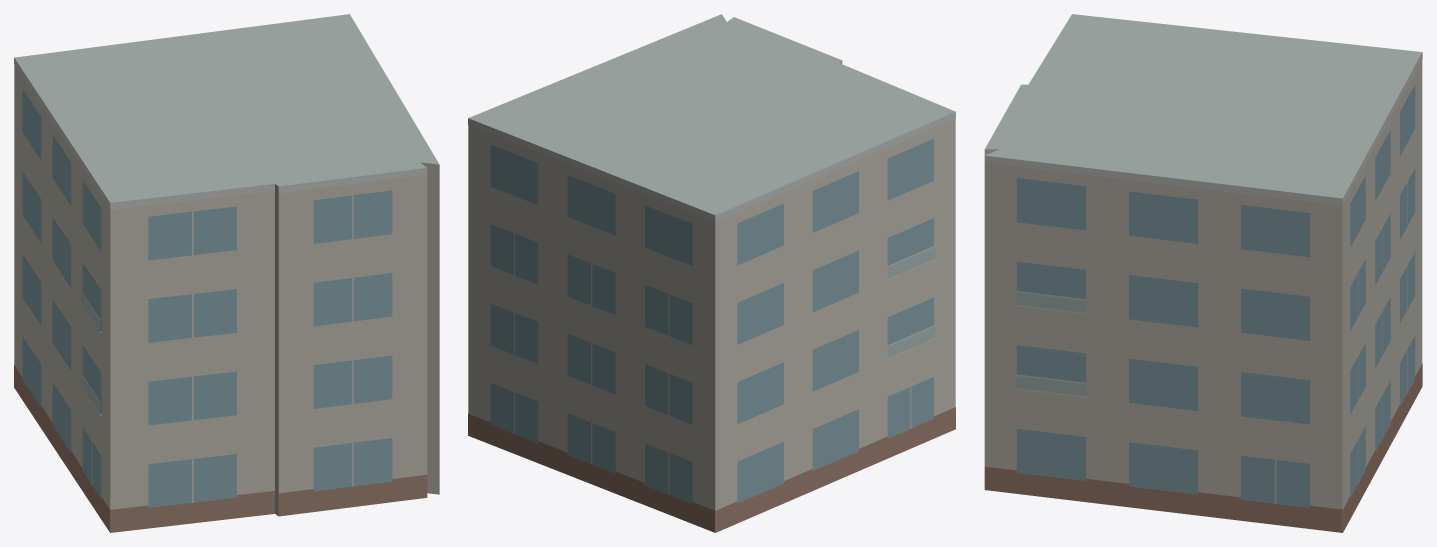
Rendered from survey-upis-33041663.glb.
3 views of the same model, side by side, from view 1: azimuth 30°, elevation 25°; view 2: azimuth 150°, elevation 25°; view 3: azimuth 270°, elevation 25° (orthographic). The views are drawn at different scales.
Visible parts, largest first — view 1: survey-upis-33041663.tmp; view 2: survey-upis-33041663.tmp; view 3: survey-upis-33041663.tmp.
Boxes of the visible parts, x1,y1,x2,y2 form: survey-upis-33041663.tmp: (14, 14, 439, 532); survey-upis-33041663.tmp: (468, 14, 955, 532); survey-upis-33041663.tmp: (984, 14, 1422, 532).
Bounding box in the file's own units: 13.44 × 11.35 × 13.48.
